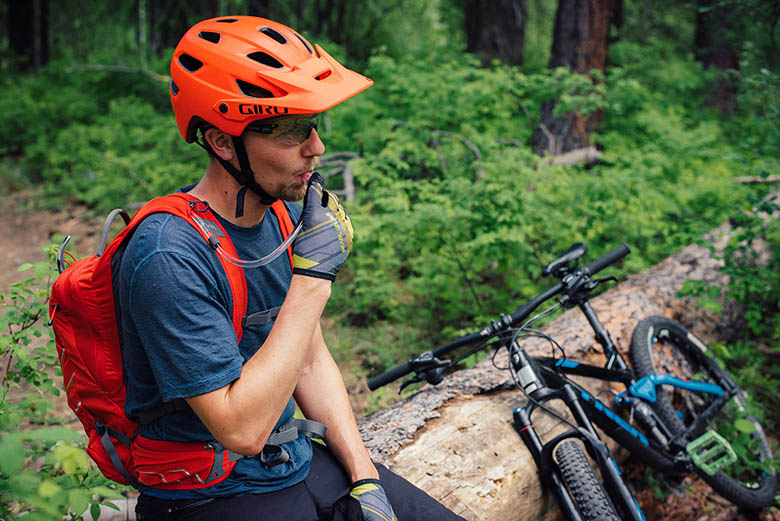helmet: (168, 13, 374, 133)
